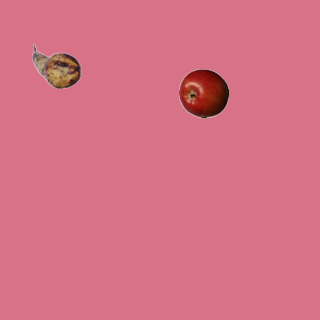Apple Braeburn: (178, 68, 228, 118)
Pear Abate: (31, 41, 81, 91)
